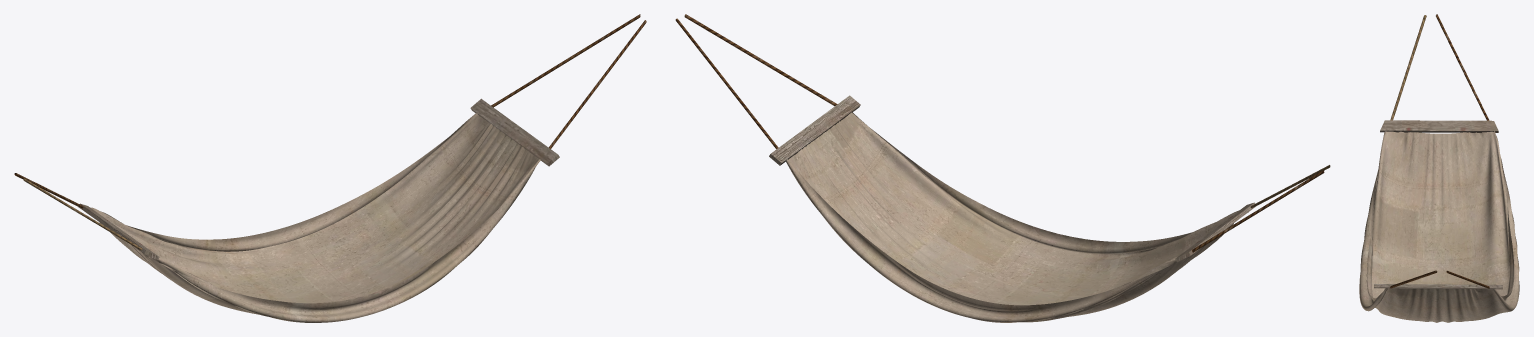
Rendered from ti_hammock.glb.
3 renders of one model, left to right at view 1: azimuth 30°, elevation 25°; view 2: azimuth 150°, elevation 25°; view 3: azimuth 270°, elevation 25°, orthographic. The views are drawn at different scales.
Visible parts, largest first — view 1: KB3D_TIS_Hammock_A_Main; view 2: KB3D_TIS_Hammock_A_Main; view 3: KB3D_TIS_Hammock_A_Main.
Boxes of the visible parts, box(x1,y1,x2,y2) form: KB3D_TIS_Hammock_A_Main: box(14, 14, 646, 322); KB3D_TIS_Hammock_A_Main: box(675, 14, 1330, 322); KB3D_TIS_Hammock_A_Main: box(1359, 14, 1519, 322).
Bounding box in the file's own units: 4.48 × 1.34 × 1.18.
Materials: 3 (3 with a texture image).
